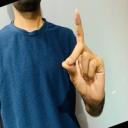hand: (61, 8, 105, 116)
